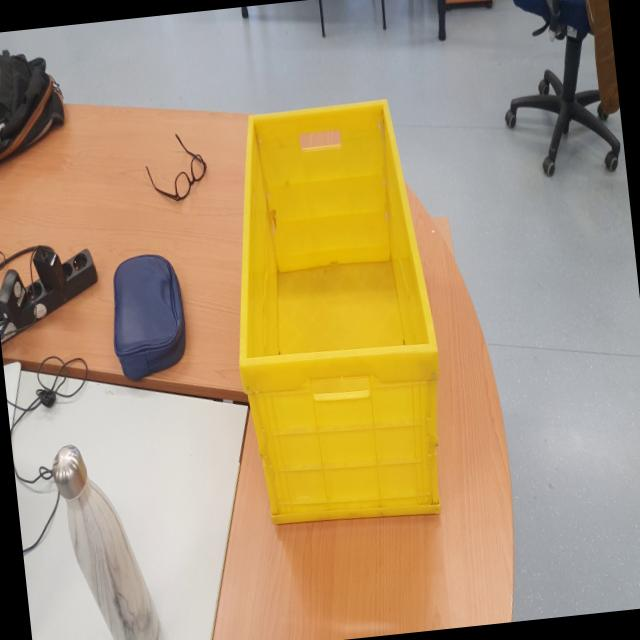box: (208, 73, 468, 558)
